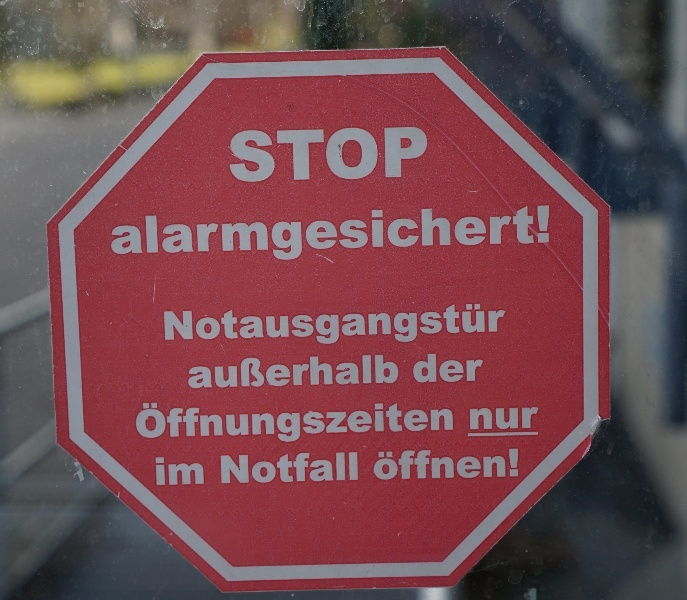text: (113, 206, 128, 264), (129, 206, 144, 264), (145, 206, 160, 264), (161, 206, 176, 264), (177, 206, 192, 264), (193, 206, 208, 264), (209, 206, 224, 264), (225, 206, 240, 264), (241, 206, 256, 264), (257, 206, 272, 264), (273, 206, 288, 264), (289, 206, 304, 264), (305, 206, 320, 264), (321, 206, 336, 264), (337, 206, 352, 264), (353, 206, 368, 264), (369, 206, 384, 264), (385, 206, 400, 264), (401, 206, 416, 264), (417, 206, 432, 264), (433, 206, 448, 264), (449, 206, 464, 264), (465, 206, 480, 264), (481, 206, 496, 264), (497, 206, 512, 264), (513, 206, 528, 264), (529, 206, 544, 264), (241, 127, 256, 184), (257, 127, 272, 184), (273, 127, 288, 184), (289, 127, 304, 184), (305, 127, 320, 184), (321, 127, 336, 184), (337, 127, 352, 184), (353, 127, 368, 184), (369, 127, 384, 184), (385, 127, 400, 184), (401, 127, 416, 184), (145, 400, 160, 446), (161, 400, 176, 446), (177, 400, 192, 446), (193, 400, 208, 446), (209, 400, 224, 446), (225, 400, 240, 446), (241, 400, 256, 446), (257, 400, 272, 446), (273, 400, 288, 446), (289, 400, 304, 446), (305, 400, 320, 446), (321, 400, 336, 446), (337, 400, 352, 446), (353, 400, 368, 446), (369, 400, 384, 446), (385, 400, 400, 446), (401, 400, 416, 446), (417, 400, 432, 446), (433, 400, 448, 446), (177, 304, 192, 350), (193, 304, 208, 350), (209, 304, 224, 350), (225, 304, 240, 350), (241, 304, 256, 350), (257, 304, 272, 350), (273, 304, 288, 350), (289, 304, 304, 350), (305, 304, 320, 350), (321, 304, 336, 350), (337, 304, 352, 350), (353, 304, 368, 350), (369, 304, 384, 350), (385, 304, 400, 350), (401, 304, 416, 350), (417, 304, 432, 350), (433, 304, 448, 350), (449, 304, 464, 350), (465, 304, 480, 350), (481, 304, 496, 350), (417, 127, 429, 184), (497, 304, 510, 350), (164, 304, 176, 350), (193, 354, 208, 390), (209, 354, 224, 390), (225, 354, 240, 390), (241, 354, 256, 390), (257, 354, 272, 390), (273, 354, 288, 390), (289, 354, 304, 390), (305, 354, 320, 390), (321, 354, 336, 390), (337, 354, 352, 390), (353, 354, 368, 390), (369, 354, 384, 390), (385, 354, 400, 390), (231, 127, 240, 184), (225, 452, 240, 485), (241, 452, 256, 485), (257, 452, 272, 485), (273, 452, 288, 485), (289, 452, 304, 485), (305, 452, 320, 485), (321, 452, 336, 485), (337, 452, 352, 485), (385, 450, 400, 482), (401, 450, 416, 482), (417, 450, 432, 482), (433, 450, 448, 482), (449, 450, 464, 482), (465, 450, 480, 482), (481, 450, 496, 482), (497, 450, 512, 482), (417, 353, 432, 385), (433, 353, 448, 385), (449, 353, 464, 385), (465, 353, 480, 385), (161, 458, 176, 487), (177, 458, 192, 487), (135, 400, 144, 446), (193, 458, 205, 487), (545, 206, 551, 264), (481, 407, 496, 430), (497, 407, 512, 430), (513, 407, 528, 430), (376, 450, 384, 482), (529, 407, 540, 430), (470, 407, 480, 430), (449, 400, 454, 446), (513, 450, 520, 482), (353, 452, 359, 485), (481, 353, 485, 385), (156, 458, 160, 487), (221, 452, 224, 485), (414, 353, 416, 385), (191, 354, 192, 390)
